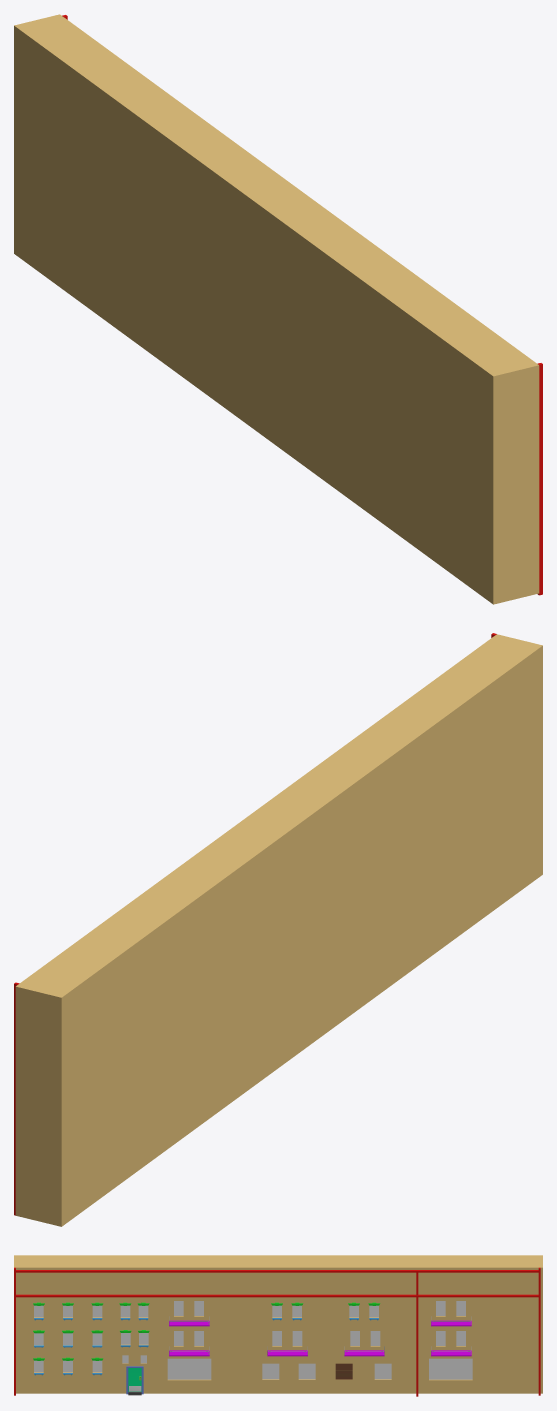
File: Alleyway_Wall_Left.fbx
The picture shows the model from 3 angles, top to bottom: view 1: azimuth 30°, elevation 25°; view 2: azimuth 150°, elevation 25°; view 3: azimuth 270°, elevation 25°; orthographic projection. The views are drawn at different scales.
Parts seen in each view (by area): view 1: Alley_Wall_Left; view 2: Alley_Wall_Left; view 3: Alley_Wall_Left.
Part boxes in pixels (x1,y1,x2,y2): Alley_Wall_Left: (14, 14, 542, 604); Alley_Wall_Left: (14, 633, 542, 1226); Alley_Wall_Left: (14, 1255, 542, 1396).
Bounding box in the file's own units: 279 × 966 × 3616.
